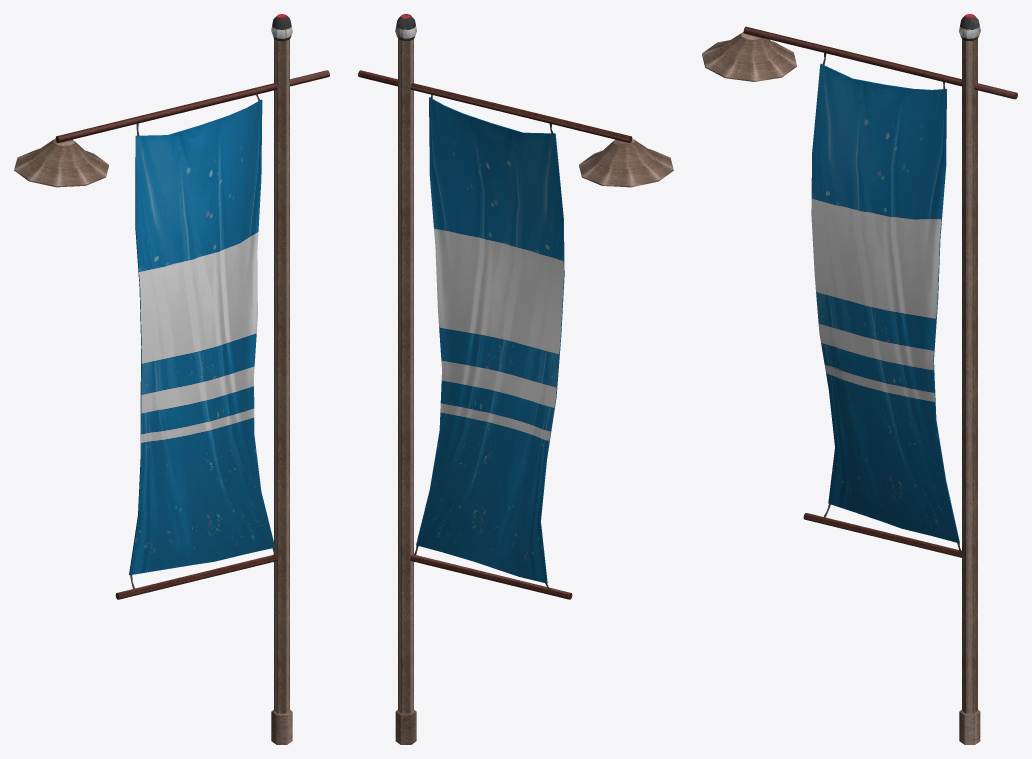
The model's file is light.glb.
3 views of the same model, side by side, from view 1: azimuth 30°, elevation 25°; view 2: azimuth 150°, elevation 25°; view 3: azimuth 330°, elevation 25° (orthographic).
Visible parts, largest first — view 1: a:lightpole_a.1; view 2: a:lightpole_a.1; view 3: a:lightpole_a.1.
Boxes of the visible parts, <box> form: a:lightpole_a.1: <box>14,14,329,744</box>; a:lightpole_a.1: <box>358,14,673,744</box>; a:lightpole_a.1: <box>702,14,1017,744</box>.
Size of the model in its own units: 0.0477 by 0.1078 by 0.0131.
Materials: 6 (4 with a texture image).
